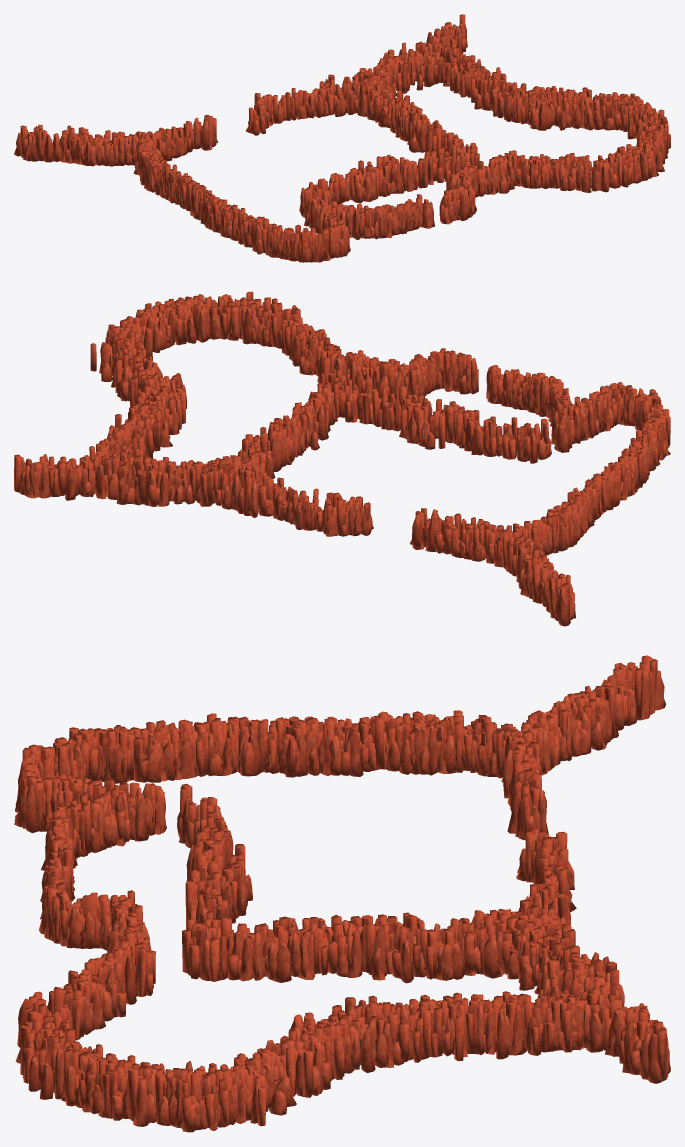
The model's file is w_canyon.fbx.
3 renders of one model, top to bottom at view 1: azimuth 30°, elevation 25°; view 2: azimuth 150°, elevation 25°; view 3: azimuth 270°, elevation 25°, orthographic. The views are drawn at different scales.
Visible parts, largest first — view 1: w_canyon; view 2: w_canyon; view 3: w_canyon.
Boxes of the visible parts, bbox=[...] form: w_canyon: bbox=[14, 14, 670, 262]; w_canyon: bbox=[14, 291, 670, 626]; w_canyon: bbox=[14, 655, 670, 1132].
Size of the model in its own units: 18272 by 1008 by 11763.
1 material, 1 textured.
